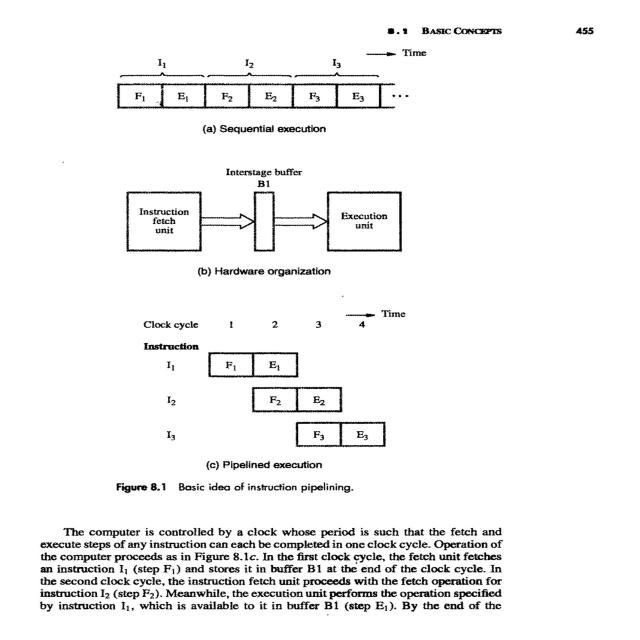diagram: (43, 45, 621, 512)
